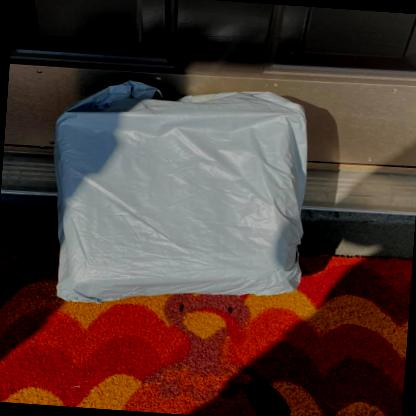plastic_bag: (49, 78, 311, 306)
